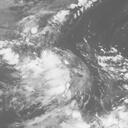cyclone: (24, 46, 88, 102)
